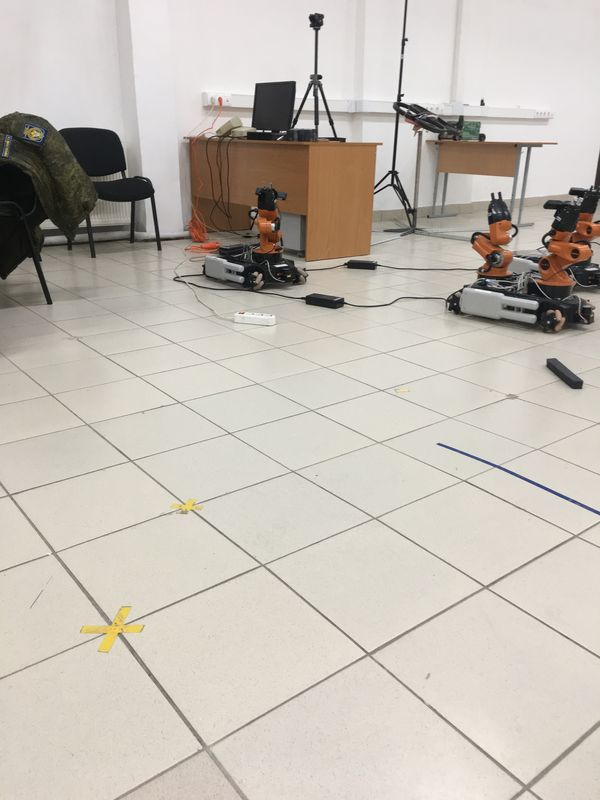socket: (229, 306, 281, 329)
